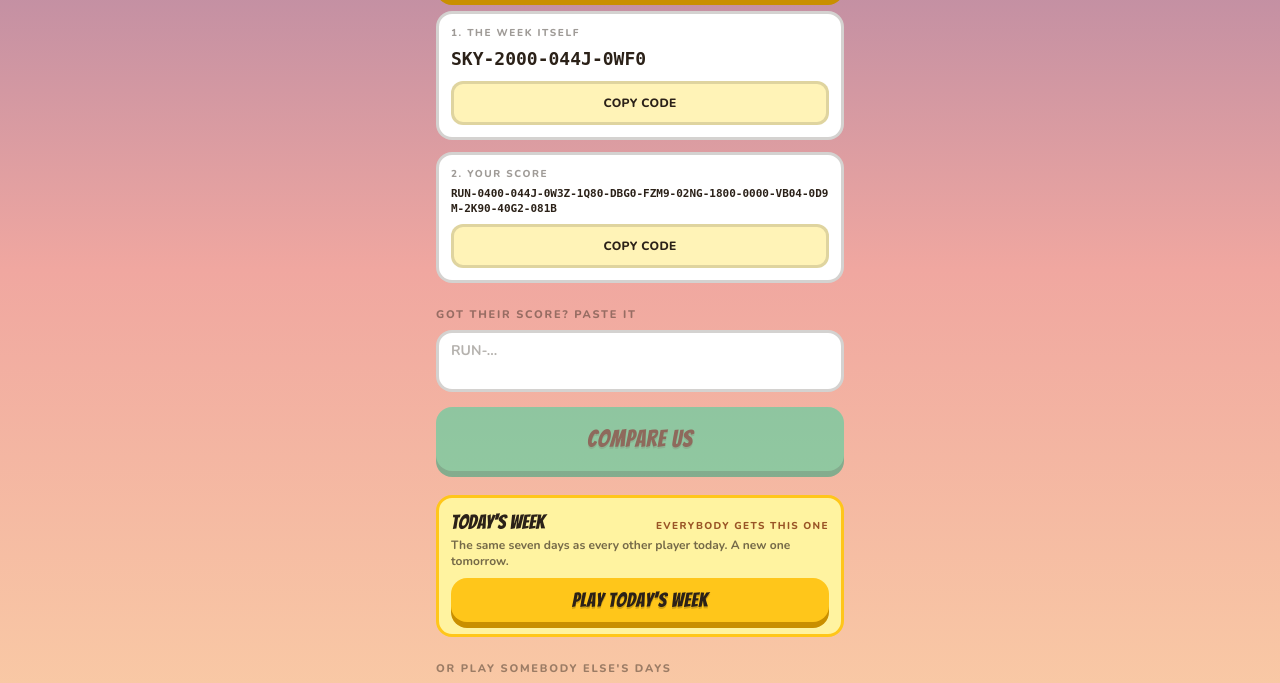
Test: pasting a friend’s score › refuses a code that is not a score code, and says what to check
This screenshot has width=1280, height=683.
(page scrolled)
Type "RUN-NOPE-NOPE" into the text box labelled "RUN-..." at (640, 360), box [436,330,844,392]
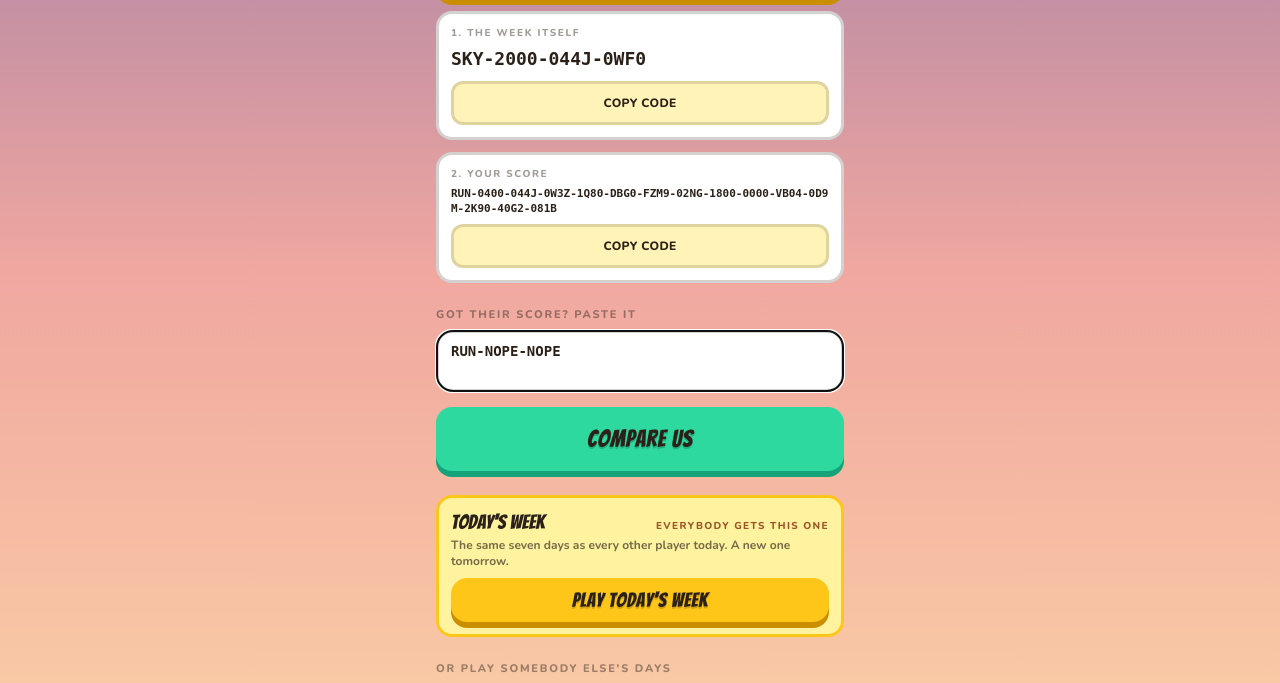
Click the button "Compare us" at (640, 438), box [436,406,844,470]
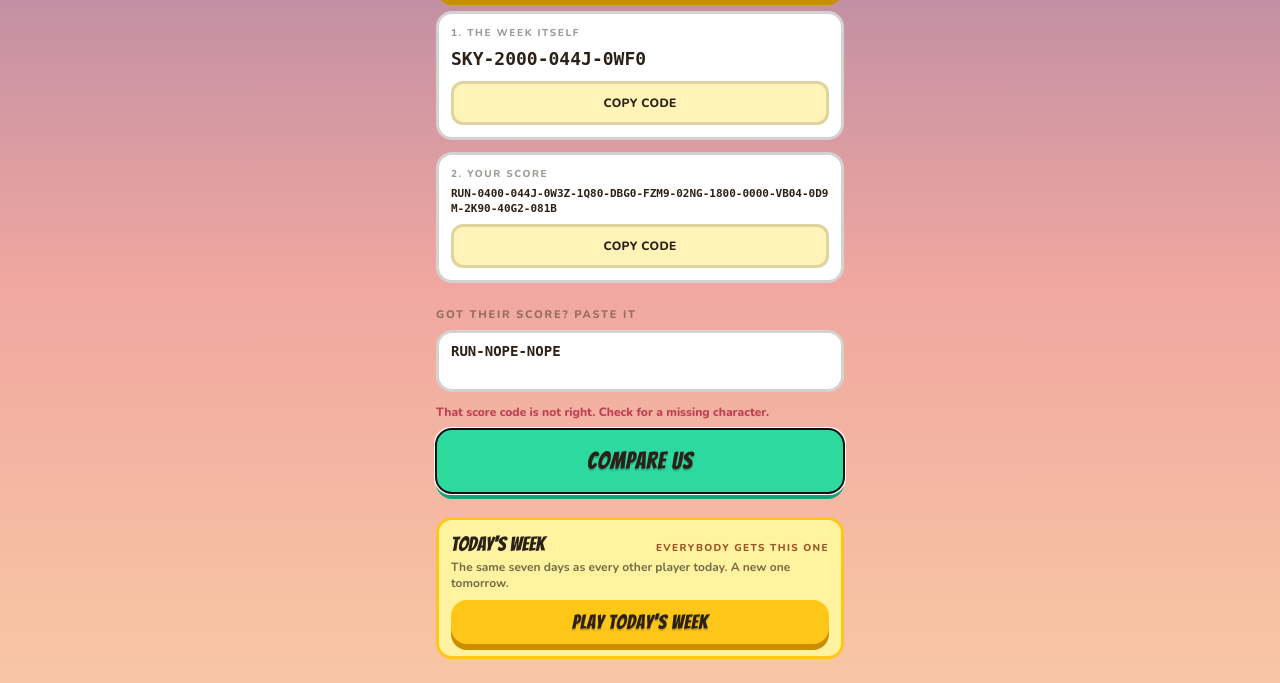
expect the text "That score code is not right. Check for a missing character." is shown: met, box [436,404,769,420]
